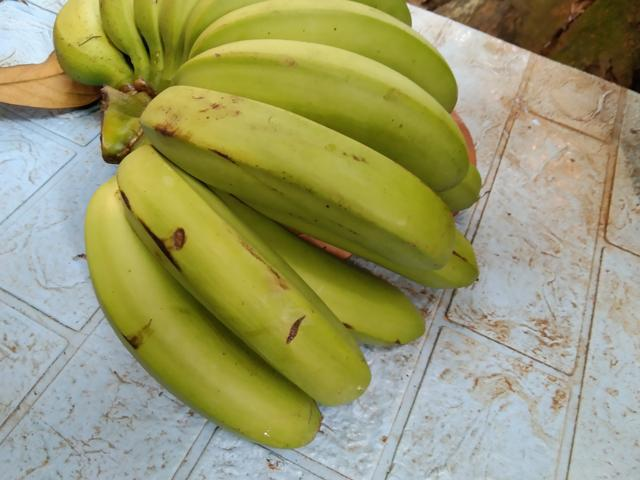freshunripe: (71, 176, 311, 457), (186, 28, 474, 192), (195, 0, 461, 118)
unripe: (135, 78, 463, 286)
